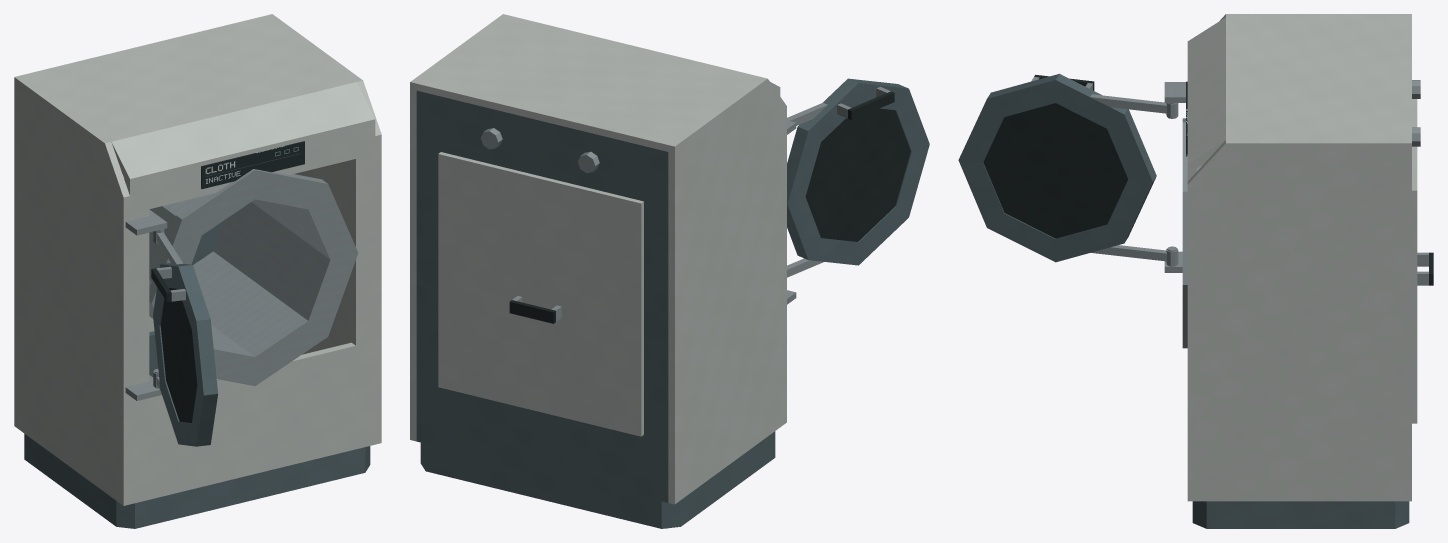
The model's file is AST-HSK-001_hatch_open.glb.
The picture shows the model from 3 angles, left to right: view 1: azimuth 30°, elevation 25°; view 2: azimuth 150°, elevation 25°; view 3: azimuth 270°, elevation 25°; orthographic projection. The views are drawn at different scales.
Parts seen in each view (by area): view 1: AST-HSK-001__static__staff_white_paint, AST-HSK-001__static__staff_zinc, AST-HSK-001__static__staff_bluegrey_paint, AST-HSK-001__LOADING_HATCH_Z__staff_bluegrey_paint, AST-HSK-001__LOADING_HATCH_Z__staff_rubber, AST-HSK-001__static__cloth_controls, AST-HSK-001__LOADING_HATCH_Z__staff_zinc; view 2: AST-HSK-001__static__staff_white_paint, AST-HSK-001__static__staff_bluegrey_paint, AST-HSK-001__REAR_SERVICE_COVER__staff_white_paint, AST-HSK-001__LOADING_HATCH_Z__staff_rubber, AST-HSK-001__LOADING_HATCH_Z__staff_bluegrey_paint, AST-HSK-001__LOADING_HATCH_Z__staff_zinc, AST-HSK-001__static__staff_zinc, AST-HSK-001__REAR_SERVICE_COVER__staff_rubber; view 3: AST-HSK-001__static__staff_white_paint, AST-HSK-001__LOADING_HATCH_Z__staff_rubber, AST-HSK-001__LOADING_HATCH_Z__staff_bluegrey_paint, AST-HSK-001__static__staff_bluegrey_paint, AST-HSK-001__static__staff_zinc, AST-HSK-001__LOADING_HATCH_Z__staff_zinc, AST-HSK-001__REAR_SERVICE_COVER__staff_white_paint.
Part boxes in pixels (x1,y1,x2,y2): AST-HSK-001__static__staff_white_paint: (14, 14, 381, 505); AST-HSK-001__static__staff_zinc: (123, 169, 358, 400); AST-HSK-001__static__staff_bluegrey_paint: (24, 220, 370, 528); AST-HSK-001__LOADING_HATCH_Z__staff_bluegrey_paint: (153, 263, 218, 446); AST-HSK-001__LOADING_HATCH_Z__staff_rubber: (151, 268, 197, 423); AST-HSK-001__static__cloth_controls: (201, 141, 304, 188); AST-HSK-001__LOADING_HATCH_Z__staff_zinc: (153, 229, 185, 389); AST-HSK-001__static__staff_white_paint: (410, 14, 786, 504); AST-HSK-001__static__staff_bluegrey_paint: (416, 90, 775, 528); AST-HSK-001__REAR_SERVICE_COVER__staff_white_paint: (438, 152, 643, 436); AST-HSK-001__LOADING_HATCH_Z__staff_rubber: (805, 91, 910, 241); AST-HSK-001__LOADING_HATCH_Z__staff_bluegrey_paint: (787, 78, 929, 265); AST-HSK-001__LOADING_HATCH_Z__staff_zinc: (787, 86, 890, 277); AST-HSK-001__static__staff_zinc: (480, 120, 796, 304); AST-HSK-001__REAR_SERVICE_COVER__staff_rubber: (509, 300, 555, 323); AST-HSK-001__static__staff_white_paint: (1187, 14, 1411, 501); AST-HSK-001__LOADING_HATCH_Z__staff_rubber: (983, 74, 1128, 238); AST-HSK-001__LOADING_HATCH_Z__staff_bluegrey_paint: (958, 73, 1156, 262); AST-HSK-001__static__staff_bluegrey_paint: (1192, 501, 1409, 528); AST-HSK-001__static__staff_zinc: (1164, 80, 1420, 348); AST-HSK-001__LOADING_HATCH_Z__staff_zinc: (1031, 77, 1178, 265); AST-HSK-001__REAR_SERVICE_COVER__staff_white_paint: (1412, 99, 1417, 423).
Size of the model in its own units: 1.34 by 1.7 by 1.86.
5 materials, 5 textured.
